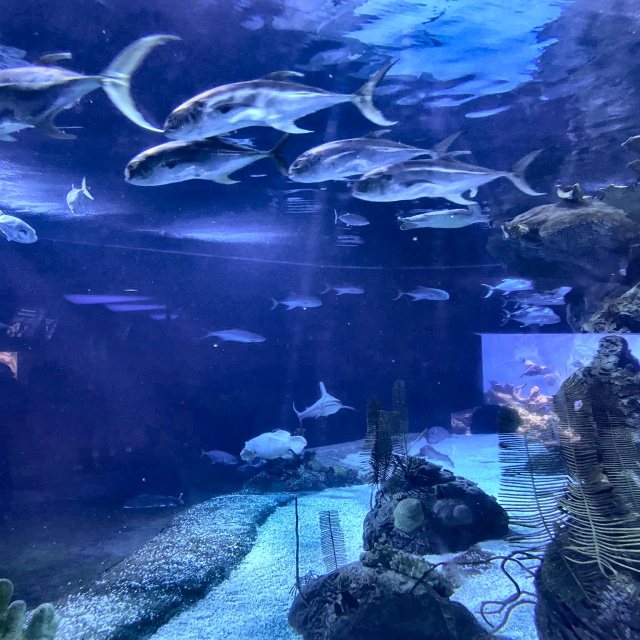fish: (0, 33, 165, 133), (162, 72, 395, 140), (360, 147, 541, 201), (120, 138, 286, 192), (290, 132, 462, 179), (0, 209, 42, 247), (502, 307, 567, 329), (390, 280, 454, 301), (65, 182, 100, 219), (482, 276, 532, 297), (209, 328, 268, 345), (274, 290, 319, 311), (332, 211, 370, 228), (333, 279, 365, 298)
shark: (291, 383, 356, 423)
